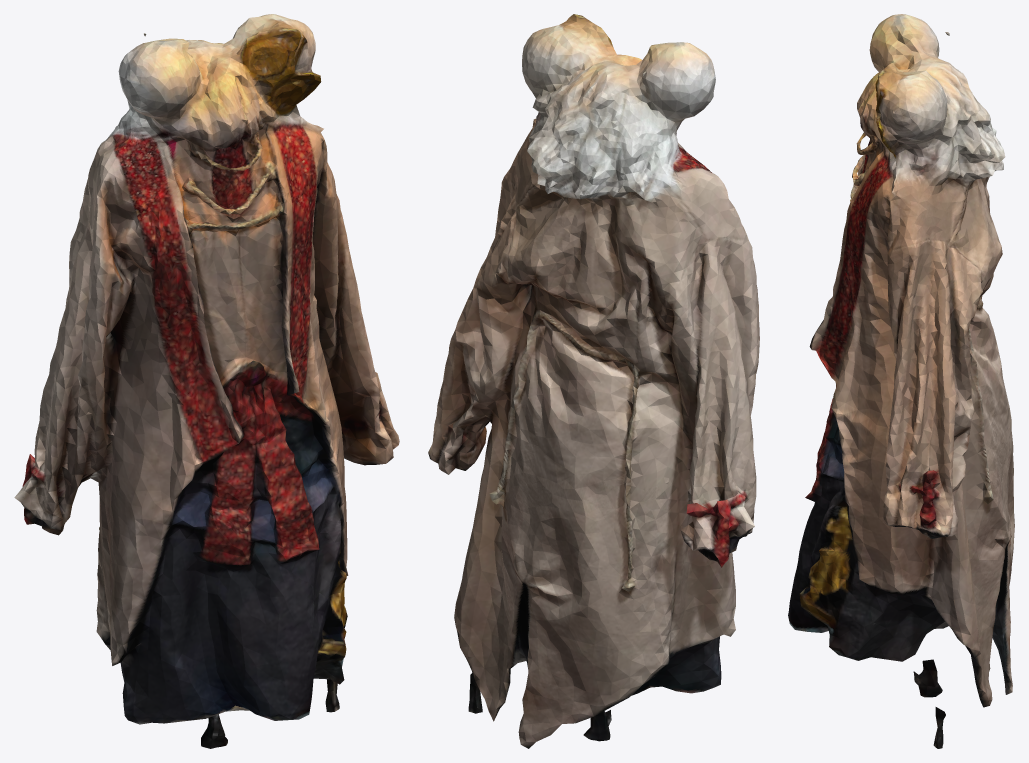
File: purah.glb
3 views of the same model, side by side, from view 1: azimuth 30°, elevation 25°; view 2: azimuth 150°, elevation 25°; view 3: azimuth 270°, elevation 25° (orthographic). The views are drawn at different scales.
Size of the model in its own units: 0.4102 by 0.8117 by 0.2582.
Materials: 1 (1 with a texture image).
